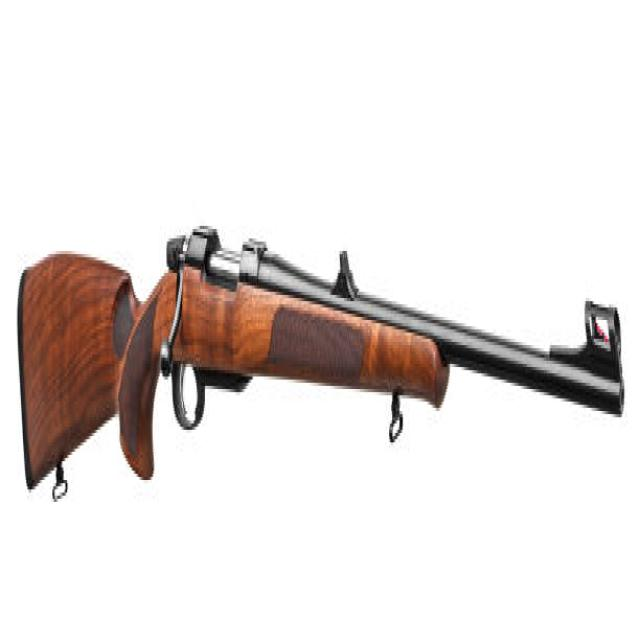rifle: (18, 194, 631, 522)
